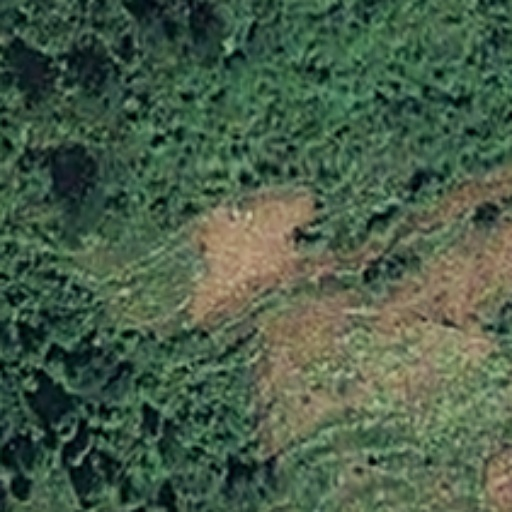landslide: (191, 183, 317, 305)
